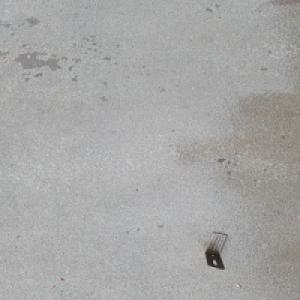MetalPart: (202, 231, 228, 270)
